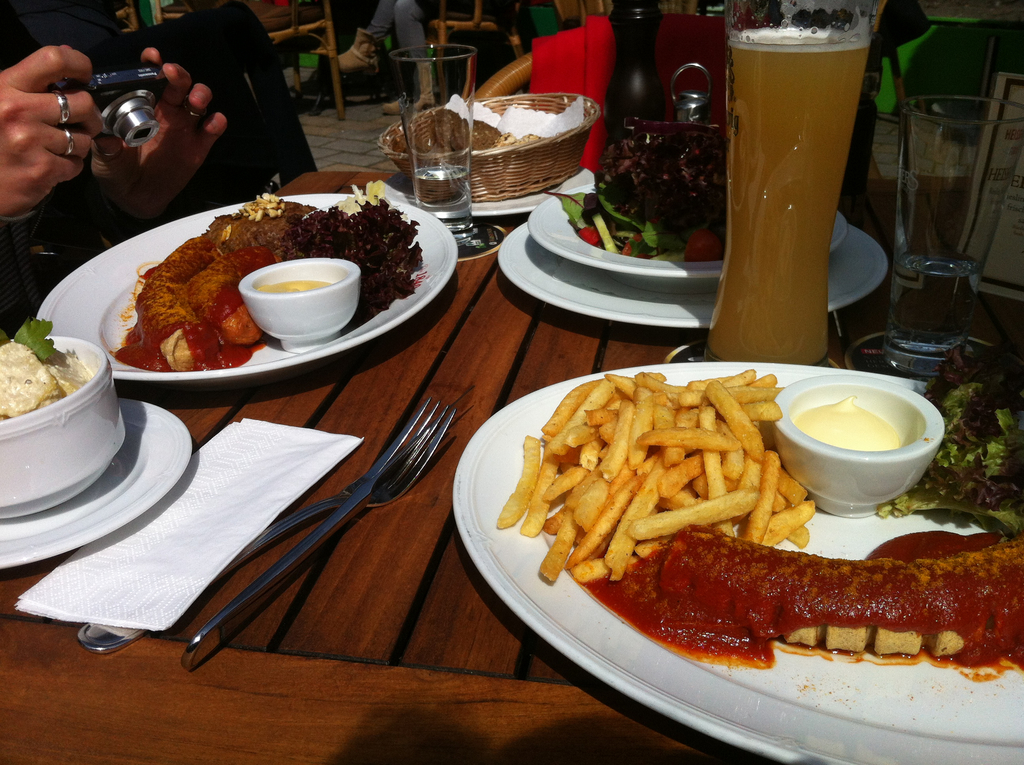French fries: (536, 379, 809, 588)
